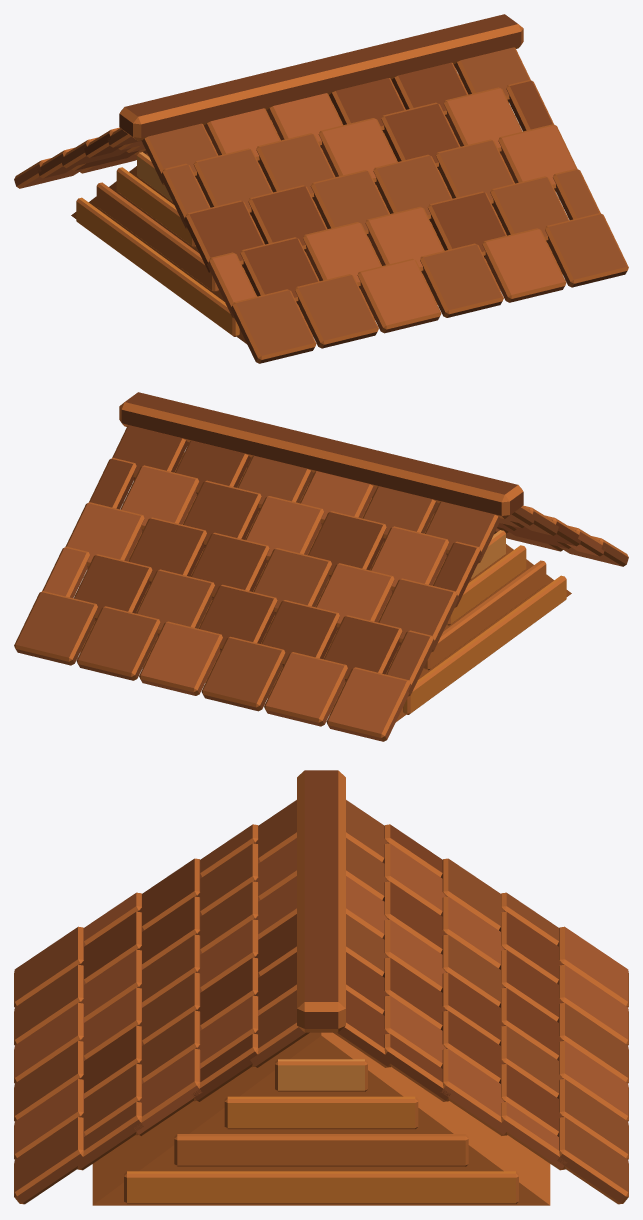
File: block_wood_cap.glb
3 views of the same model, one above another, from view 1: azimuth 30°, elevation 25°; view 2: azimuth 150°, elevation 25°; view 3: azimuth 270°, elevation 25° (orthographic). The views are drawn at different scales.
Visible parts, largest first — view 1: WoodCap; view 2: WoodCap; view 3: WoodCap.
Boxes of the visible parts, x1=… form: WoodCap: x1=14, y1=14, x2=628, y2=363; WoodCap: x1=14, y1=392, x2=628, y2=741; WoodCap: x1=14, y1=770, x2=628, y2=1205.
Size of the model in its own units: 1.5 by 0.655 by 1.64.
